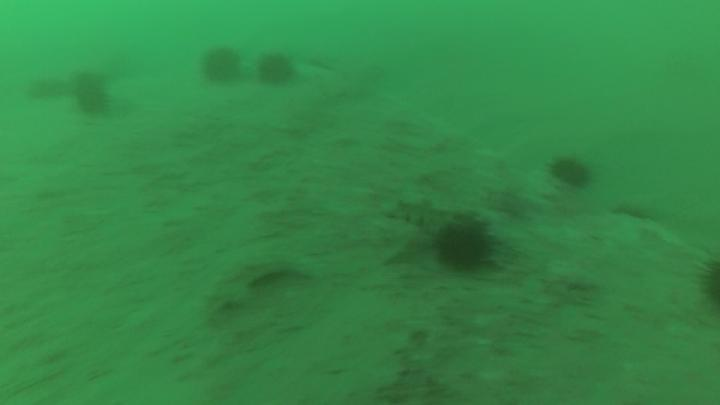echinus: (425, 212, 503, 281), (63, 69, 116, 119), (545, 150, 598, 194), (251, 49, 302, 92), (195, 42, 245, 84), (695, 247, 720, 313)
